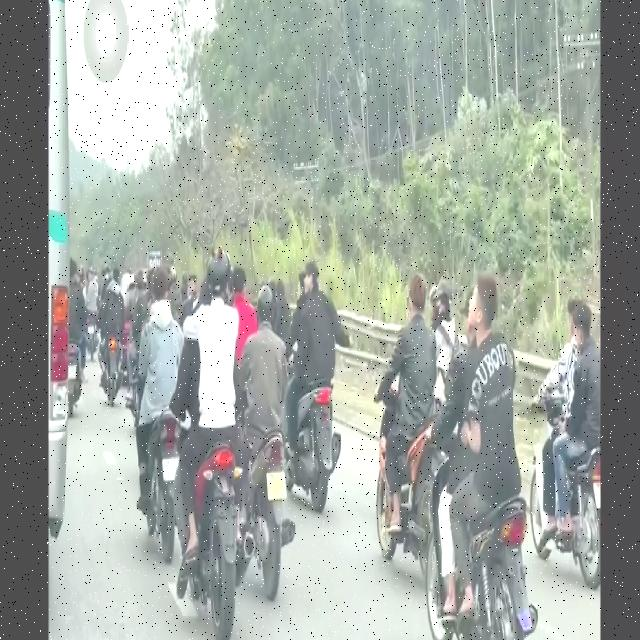helmet: (206, 240, 234, 321)
no_helmet: (472, 275, 500, 360), (574, 298, 592, 368), (412, 270, 428, 332)
